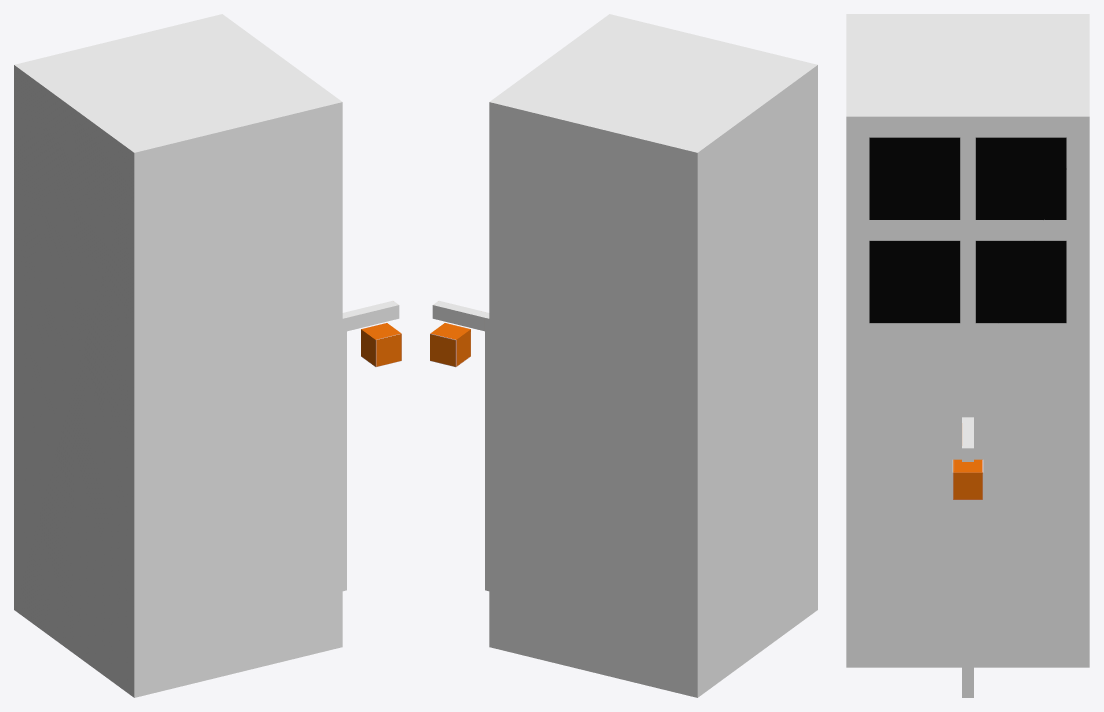
The model's file is Building.obj.
3 renders of one model, left to right at view 1: azimuth 30°, elevation 25°; view 2: azimuth 150°, elevation 25°; view 3: azimuth 270°, elevation 25°, orthographic.
Parts seen in each view (by area): view 1: Building, streetLight; view 2: Building, streetLight; view 3: Building, streetLight.
Boxes of the visible parts, x1=… form: Building: x1=14, y1=14, x2=342, y2=697; streetLight: x1=342, y1=300, x2=401, y2=591; Building: x1=489, y1=14, x2=817, y2=697; streetLight: x1=430, y1=300, x2=489, y2=591; Building: x1=846, y1=14, x2=1089, y2=667; streetLight: x1=952, y1=417, x2=983, y2=697.
Size of the model in its own units: 24.73 by 40 by 16.
Materials: 2 (2 with a texture image).
